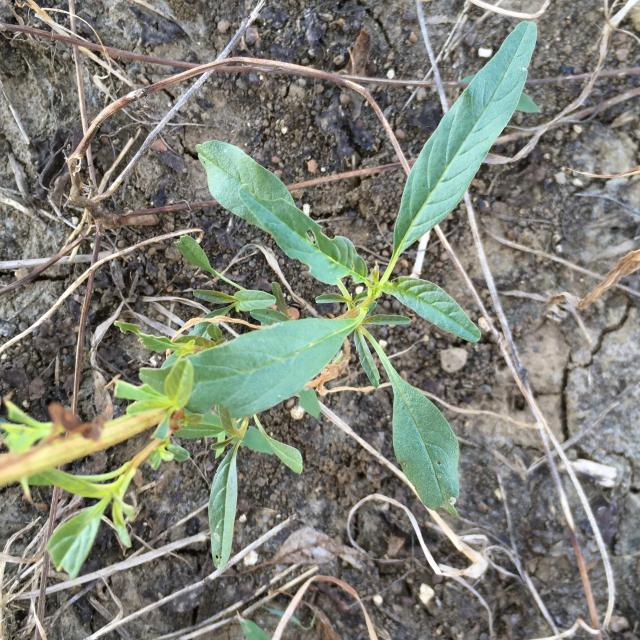Waterhemp: (45, 22, 537, 580)
